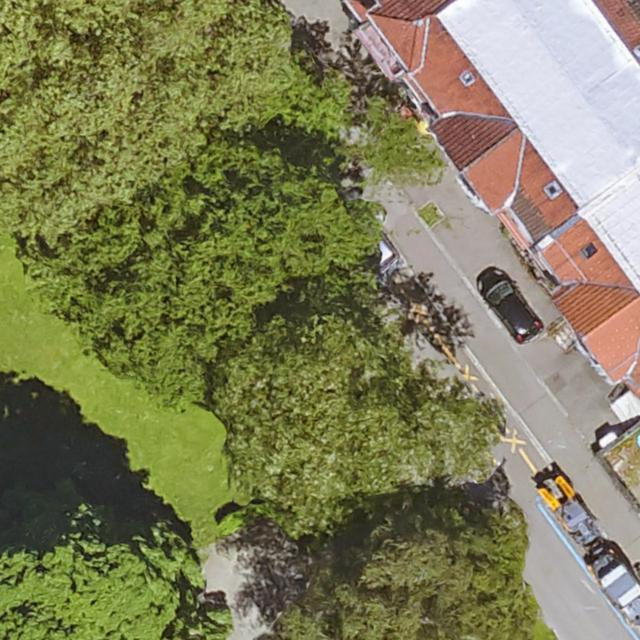tree: (49, 75, 428, 398), (0, 0, 295, 236), (207, 316, 507, 518), (271, 504, 532, 640), (0, 496, 215, 640)
